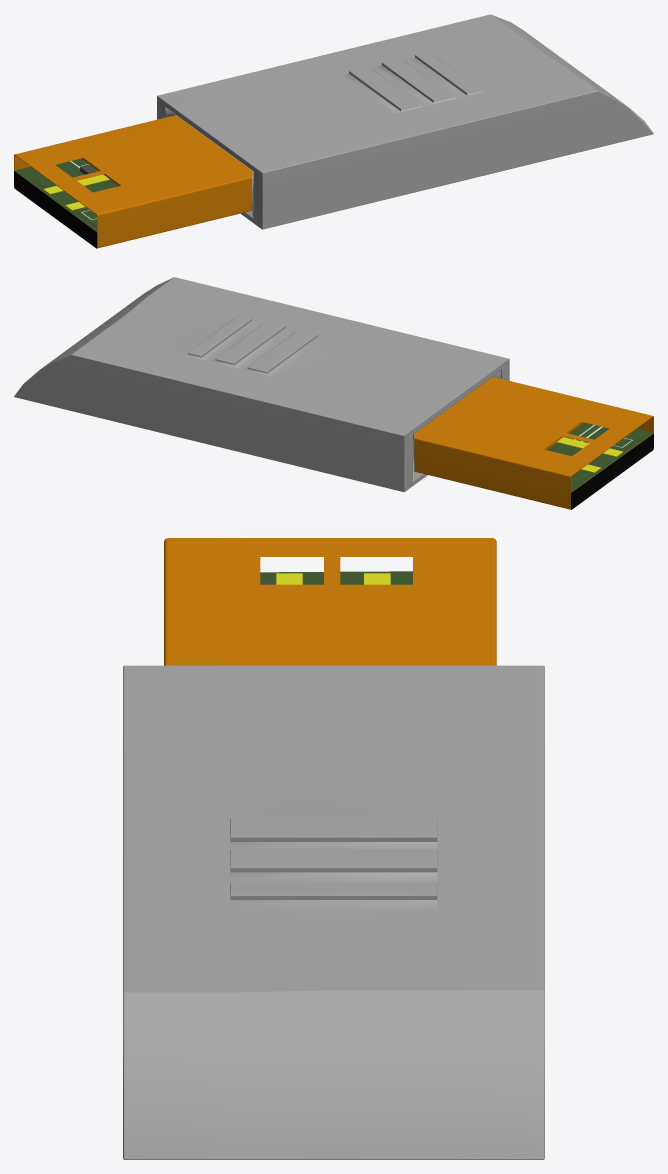
Rendered from USB.fbx.
The picture shows the model from 3 angles, top to bottom: view 1: azimuth 30°, elevation 25°; view 2: azimuth 150°, elevation 25°; view 3: azimuth 270°, elevation 25°; orthographic projection. The views are drawn at different scales.
Visible parts, largest first — view 1: metal_bit1; view 2: metal_bit1; view 3: metal_bit1.
Part boxes in pixels (x1,y1,x2,y2): metal_bit1: (14, 14, 653, 248); metal_bit1: (14, 277, 653, 509); metal_bit1: (123, 538, 544, 1159).
Size of the model in its own units: 15.95 by 1.71 by 5.34.
